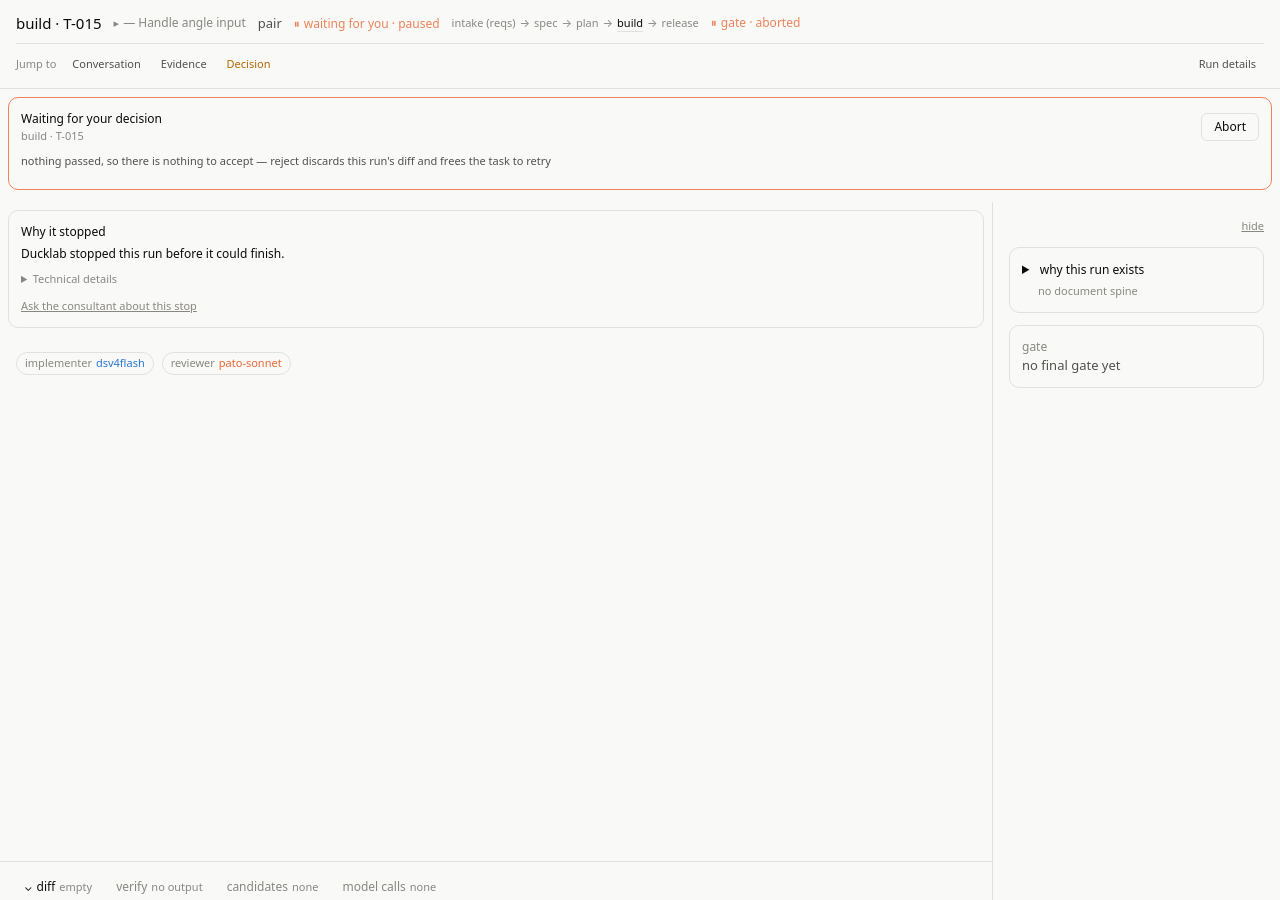
Scenario: relaunching from the run view › reports a failed abort beside the abort control
Click the button with test id "abort-button". click: coordinates (1230, 127)
box: 1201,113 -> 1259,141
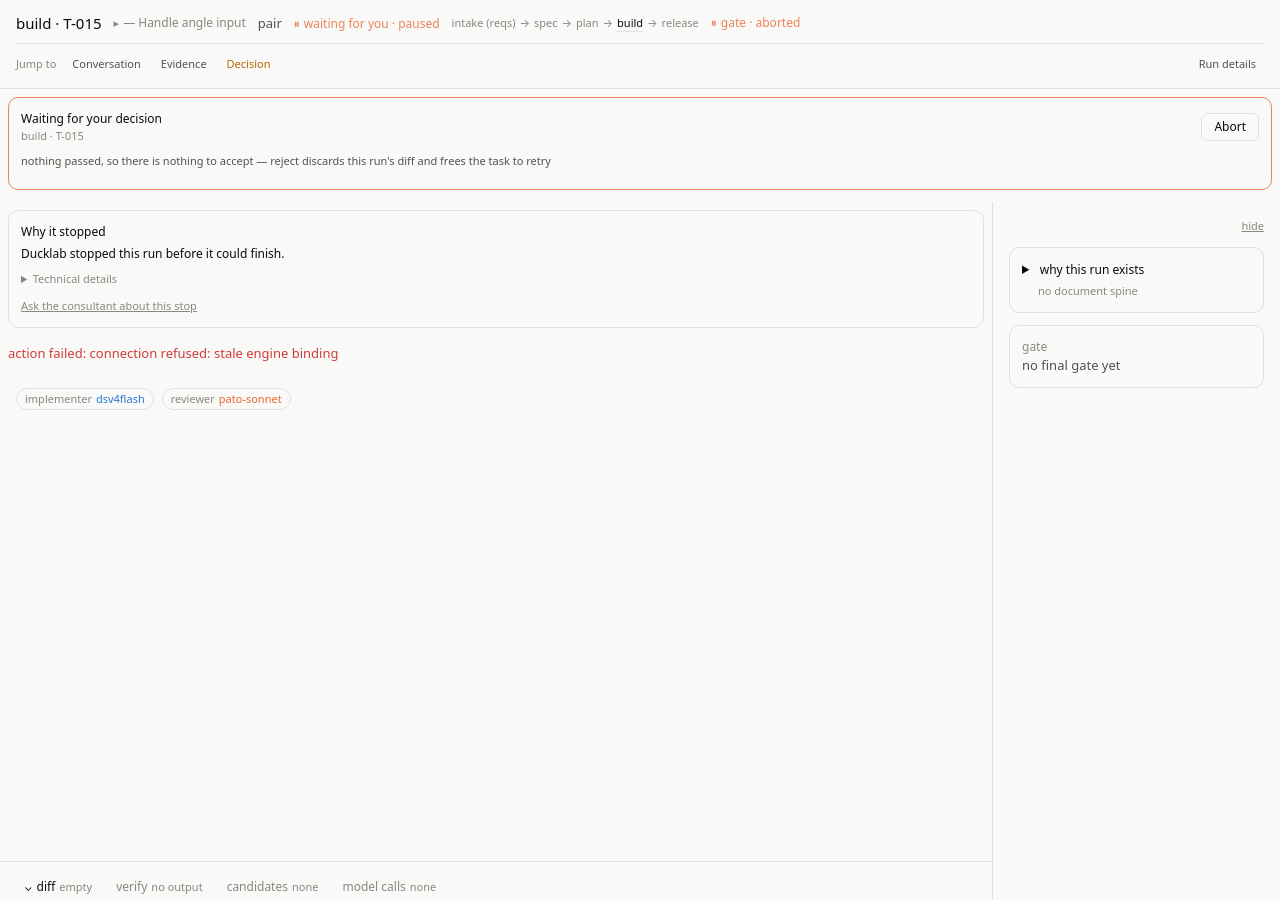
Check: the message with test id "abort-error" shows "stale engine binding", box 90,344 -> 338,362
